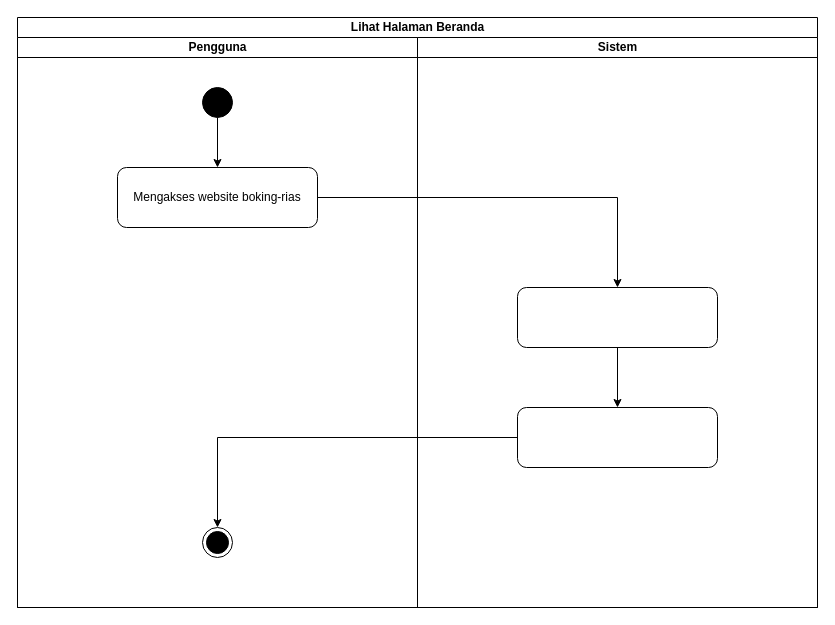
This 835x625 diagram has some shape labels left out. The shapes that lost their labels are listed below. From the top down, each one's centre as x and y in pixels, then its label:
At [617,317]: "Memuat data layanan populer".
At [617,437]: "Menampilkan halaman beranda dengan daftar MUA pilihan".
